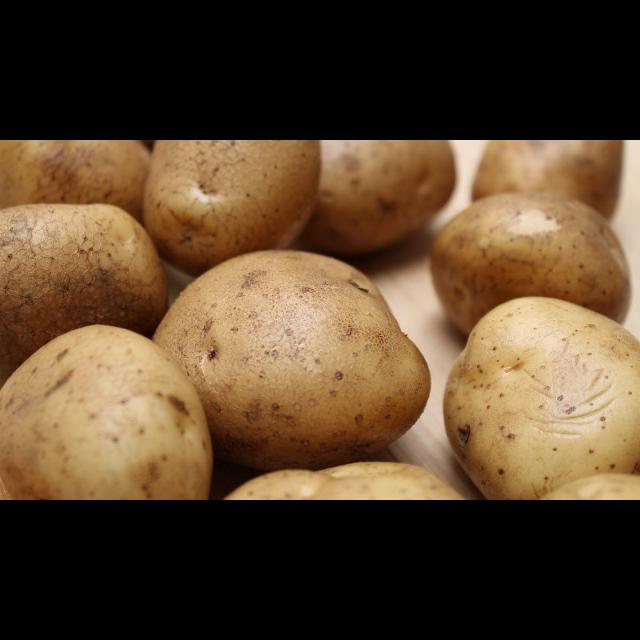Potato: (159, 244, 433, 472)
